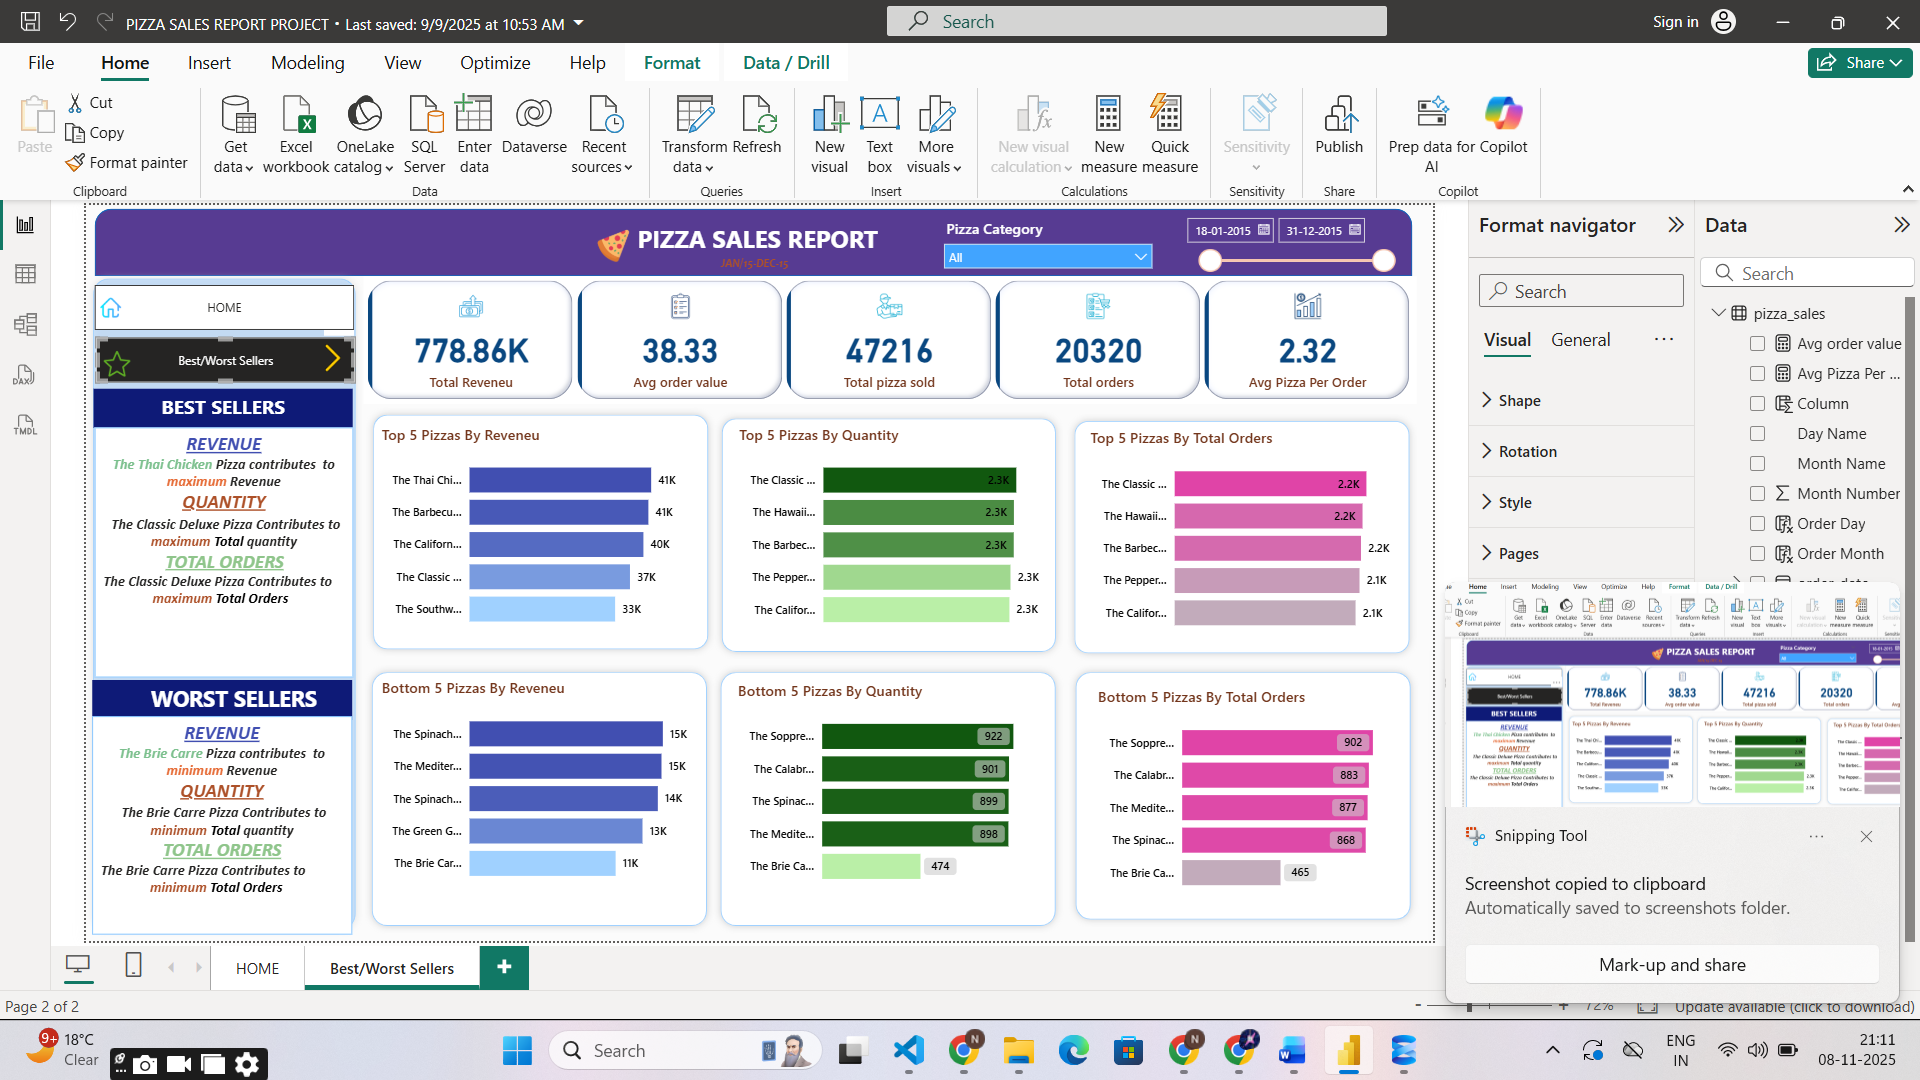

The dashboard page shown, as its layout file describes it:
{"tool":"powerbi","page":{"name":"Best/Worst Sellers","canvas":[1500,820],"ordinal":1},"visuals":[{"type":"cardVisual","fields":{"Data":["pizza_sales.Total Reveneu","pizza_sales.Avg order value","pizza_sales.Total pizza sold","pizza_sales.Total orders","pizza_sales.Avg Pizza Per Order"]},"box":[308.8,78.8,1173.8,142.5],"z":0},{"type":"shape","box":[9.5,3.6,1467.9,75],"z":1000},{"type":"textbox","box":[551.2,13.8,393.8,55],"z":2000},{"type":"textbox","box":[701.2,50,97.5,28.8],"z":3000},{"type":"image","box":[551.2,22.5,72.5,46.2],"z":4000},{"type":"shape","box":[310.7,513.1,389.3,298.8],"z":5000},{"type":"shape","box":[698.8,511.9,389.3,298.8],"z":6000},{"type":"shape","box":[1094,511.9,389.3,291.7],"z":7000},{"type":"shape","box":[0,73.8,308.3,741.7],"z":8000},{"type":"textbox","box":[8.1,204.1,289.2,43.2],"z":9000},{"type":"textbox","box":[9.5,247.6,288.1,278.6],"z":10000},{"type":"textbox","box":[7.1,529.8,289.3,44],"z":11000},{"type":"textbox","box":[7.1,569,289.3,242.9],"z":12000},{"type":"slicer","fields":{"Values":["pizza_sales.pizza_category"]},"box":[945.2,9.5,252.4,64.3],"z":13000},{"type":"slicer","fields":{"Values":["pizza_sales.order_date"]},"box":[1214.3,3.6,252.4,75],"z":14000},{"type":"shape","box":[311.9,226.2,389.3,277.4],"z":15000},{"type":"shape","box":[700,229.8,388.1,276.2],"z":16000},{"type":"shape","box":[1092.9,232.1,389.3,275],"z":17000},{"type":"barChart","title":"Top 5 Pizzas By Reveneu","fields":{"Y":["pizza_sales.Total Reveneu"],"Category":["pizza_sales.pizza_name"]},"box":[326.2,264.3,360.7,241.7],"z":18000},{"type":"barChart","title":"Bottom 5 Pizzas By Reveneu","fields":{"Y":["pizza_sales.Total Reveneu"],"Category":["pizza_sales.pizza_name"]},"box":[325,526.2,360.7,241.7],"z":19000},{"type":"barChart","title":"Top 5 Pizzas By Quantity","fields":{"Category":["pizza_sales.pizza_name"],"Y":["pizza_sales.Total pizza sold"]},"box":[722.6,244,344,241.7],"z":20000},{"type":"barChart","title":"Bottom 5 Pizzas By Quantity","fields":{"Category":["pizza_sales.pizza_name"],"Y":["pizza_sales.Total pizza sold"]},"box":[722.6,513.1,344,241.7],"z":21000},{"type":"barChart","title":"Top 5 Pizzas By Total Orders","fields":{"Category":["pizza_sales.pizza_name"],"Y":["pizza_sales.Total orders"]},"box":[1100,247.6,344,241.7],"z":22000},{"type":"barChart","title":"Bottom 5 Pizzas By Total Orders","fields":{"Category":["pizza_sales.pizza_name"],"Y":["pizza_sales.Total orders"]},"box":[1100,529.8,344,241.7],"z":23000},{"type":"pageNavigator","box":[10.7,147.6,289.3,50],"z":24000},{"type":"pageNavigator","box":[9.5,89.3,289.3,50],"z":25000},{"type":"image","box":[253.6,150,42.9,40.5],"z":26000},{"type":"image","box":[10.7,89.3,33.3,50],"z":27000},{"type":"image","box":[7.1,157.1,56,39.3],"z":28000}]}

Visuals, with their boxes on the page's 1500x820 design canvas (x1, y1, x2, y2). These are canvas units, not pixel positions in the 1920x1080 screenshot, which may show the page scaled, cropped or inside an application window:
cardVisual - pizza_sales.Total Reveneu x pizza_sales.Avg order value: bbox=(309, 79, 1483, 221)
shape: bbox=(10, 4, 1477, 79)
textbox: bbox=(551, 14, 945, 69)
textbox: bbox=(701, 50, 799, 79)
image: bbox=(551, 22, 624, 69)
shape: bbox=(311, 513, 700, 812)
shape: bbox=(699, 512, 1088, 811)
shape: bbox=(1094, 512, 1483, 804)
shape: bbox=(0, 74, 308, 816)
textbox: bbox=(8, 204, 297, 247)
textbox: bbox=(10, 248, 298, 526)
textbox: bbox=(7, 530, 296, 574)
textbox: bbox=(7, 569, 296, 812)
slicer - pizza_sales.pizza_category: bbox=(945, 10, 1198, 74)
slicer - pizza_sales.order_date: bbox=(1214, 4, 1467, 79)
shape: bbox=(312, 226, 701, 504)
shape: bbox=(700, 230, 1088, 506)
shape: bbox=(1093, 232, 1482, 507)
"Top 5 Pizzas By Reveneu" barChart: bbox=(326, 264, 687, 506)
"Bottom 5 Pizzas By Reveneu" barChart: bbox=(325, 526, 686, 768)
"Top 5 Pizzas By Quantity" barChart: bbox=(723, 244, 1067, 486)
"Bottom 5 Pizzas By Quantity" barChart: bbox=(723, 513, 1067, 755)
"Top 5 Pizzas By Total Orders" barChart: bbox=(1100, 248, 1444, 489)
"Bottom 5 Pizzas By Total Orders" barChart: bbox=(1100, 530, 1444, 772)
pageNavigator: bbox=(11, 148, 300, 198)
pageNavigator: bbox=(10, 89, 299, 139)
image: bbox=(254, 150, 296, 190)
image: bbox=(11, 89, 44, 139)
image: bbox=(7, 157, 63, 196)
